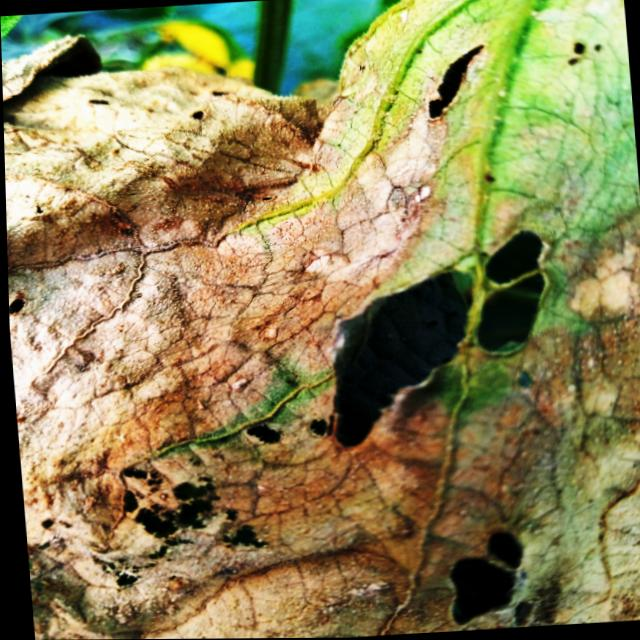Anthracnose: (308, 222, 549, 453), (95, 454, 274, 601), (438, 524, 532, 627), (415, 32, 493, 127), (237, 412, 284, 450)
